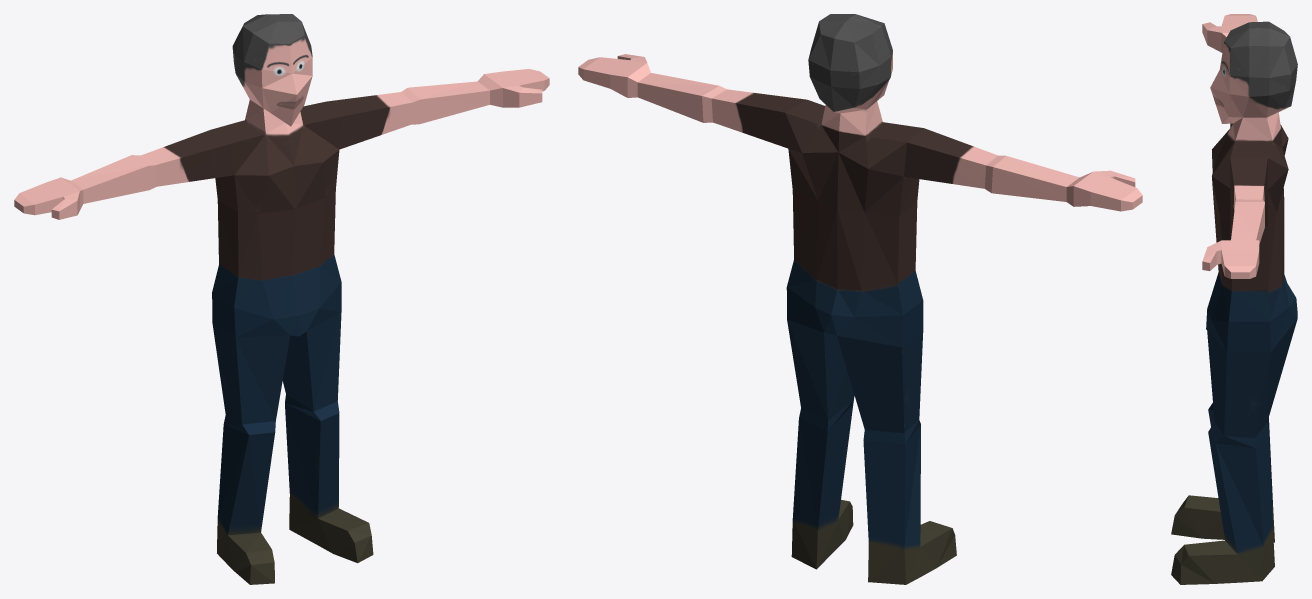
The model's file is character.obj.
3 renders of one model, left to right at view 1: azimuth 30°, elevation 25°; view 2: azimuth 150°, elevation 25°; view 3: azimuth 270°, elevation 25°, orthographic. The views are drawn at different scales.
Visible parts, largest first — view 1: Cube; view 2: Cube; view 3: Cube.
Boxes of the visible parts, box(x1,y1,x2,y2) form: Cube: box(14, 14, 549, 584); Cube: box(578, 14, 1142, 584); Cube: box(1171, 14, 1297, 584).
Bounding box in the file's own units: 2.1 × 2 × 0.4355.
